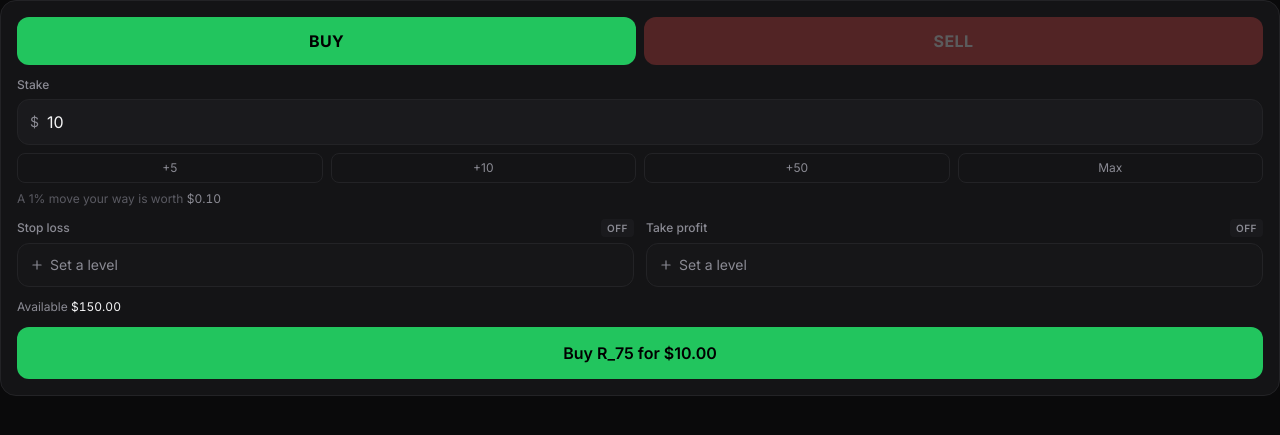
Scenario: OrderTicket › refuses a stake larger than the available balance
This screenshot has width=1280, height=435.
Replace the text in the field labelled "Stake" with "500" at (648, 122), box [47,100,1250,144]
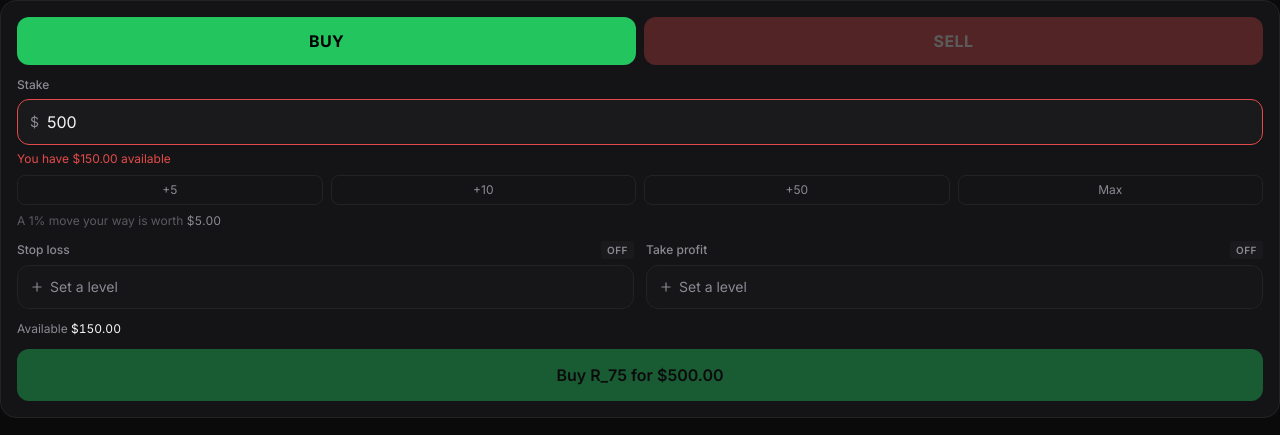
Check: the button "Buy R_75 for $500.00" is disabled, box [17,349,1263,401]
Check: the text "You have $150.00 available" is shown, box [17,151,171,166]
